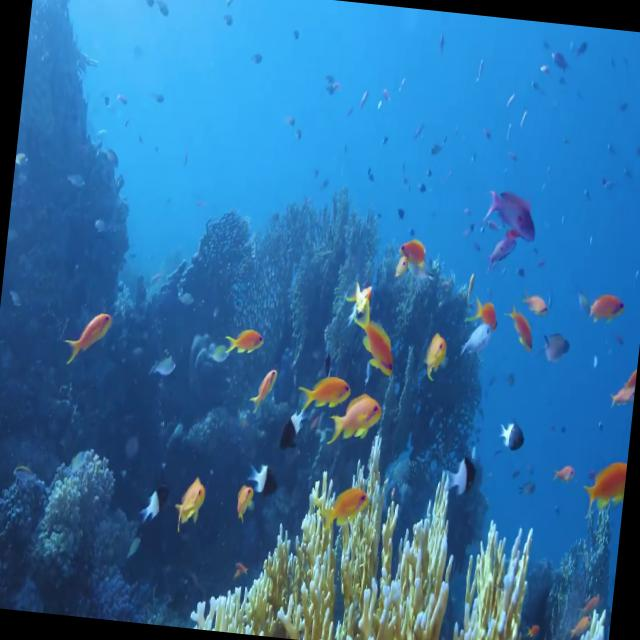fish: (482, 182, 538, 245), (356, 303, 401, 376), (318, 484, 372, 540), (331, 391, 385, 444), (580, 459, 627, 519), (66, 307, 114, 365), (167, 475, 206, 535), (300, 372, 352, 412), (576, 287, 624, 326), (502, 299, 536, 354), (456, 318, 494, 366), (138, 479, 168, 534), (420, 329, 450, 382), (225, 324, 268, 358), (446, 454, 479, 496), (250, 369, 278, 418), (486, 226, 520, 266), (498, 422, 528, 455)
